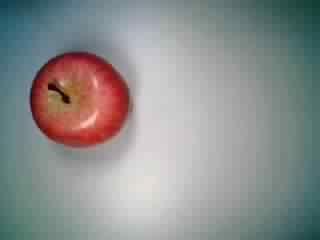apple: (25, 48, 131, 152)
